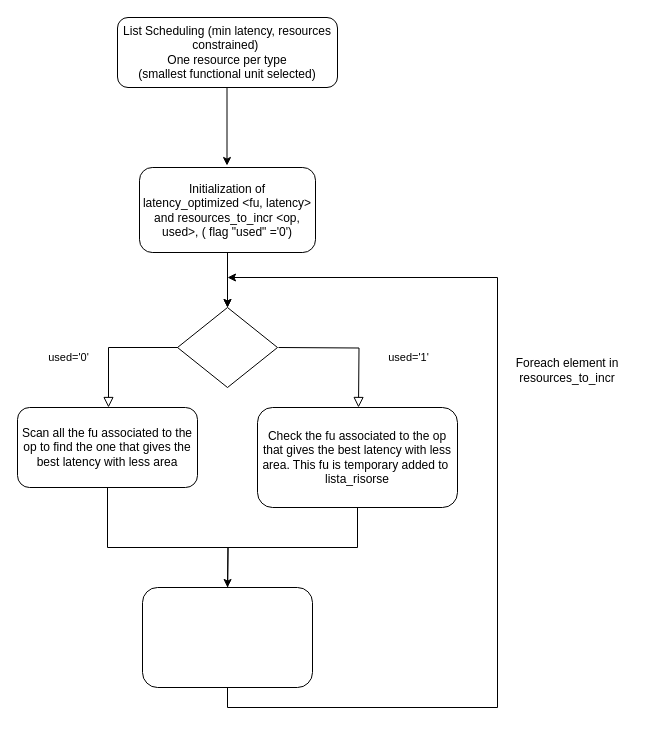
The diagram is 645 pixels wide and 733 high, and some of its shapes have lost their labels. Here are the shapes that lost their labels. From the top down, the box of each, then its label:
(176, 306, 278, 388): Check "used"
(142, 586, 312, 688): The list latency_optimized is updated with the corresponding <fu, latency>
